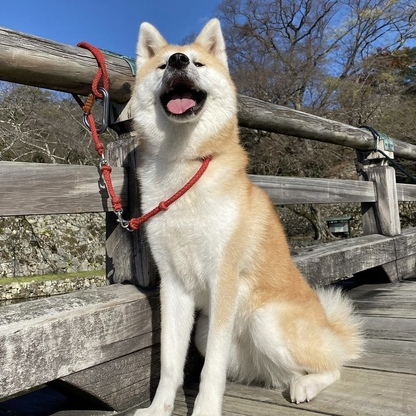akita: (110, 13, 372, 416)
